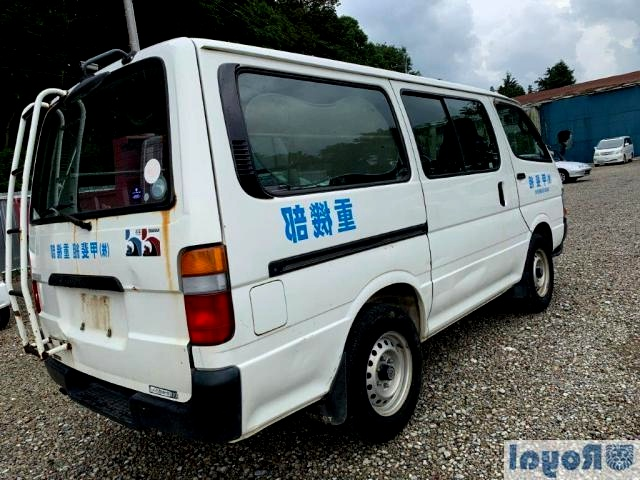van: (14, 40, 563, 438)
